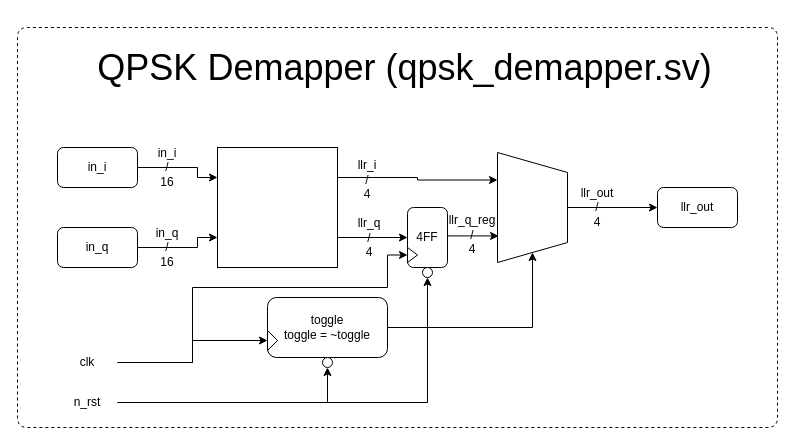
Image size: 796x446. Some labels were removed from this diagram. Each missing label, with the centre of its shape:
"LLR Extractor (Maps Fixed Point Intervals to Signed 4-bit LLRs)" belongs at [277,207].
"llr_out = toggle ? llr_q_reg : llr_i" belongs at [532,207].
